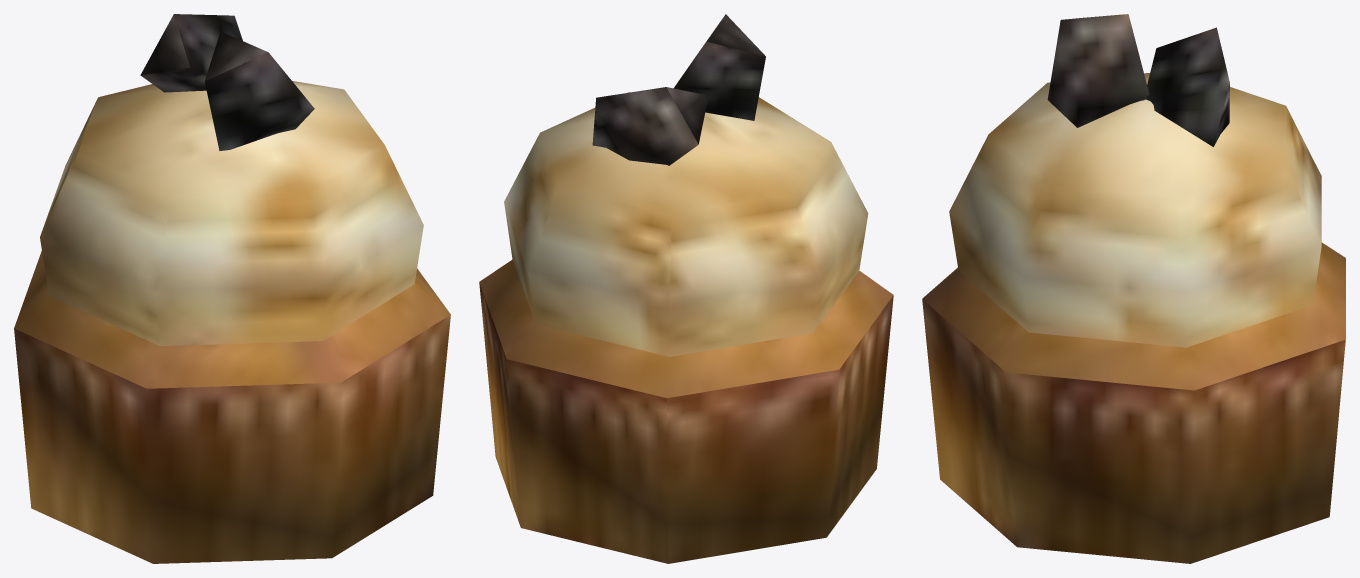
Rendered from Cupcake_02.dae.
3 views of the same model, side by side, from view 1: azimuth 30°, elevation 25°; view 2: azimuth 150°, elevation 25°; view 3: azimuth 270°, elevation 25° (orthographic). The views are drawn at different scales.
Visible parts, largest first — view 1: Cupcake_02; view 2: Cupcake_02; view 3: Cupcake_02.
Part boxes in pixels (box(x1,y1,x2,y2)): Cupcake_02: box(14, 14, 450, 563); Cupcake_02: box(479, 14, 893, 563); Cupcake_02: box(922, 14, 1345, 563).
Bounding box in the file's own units: 0.0916 × 0.0893 × 0.1066.
1 material, 1 textured.
